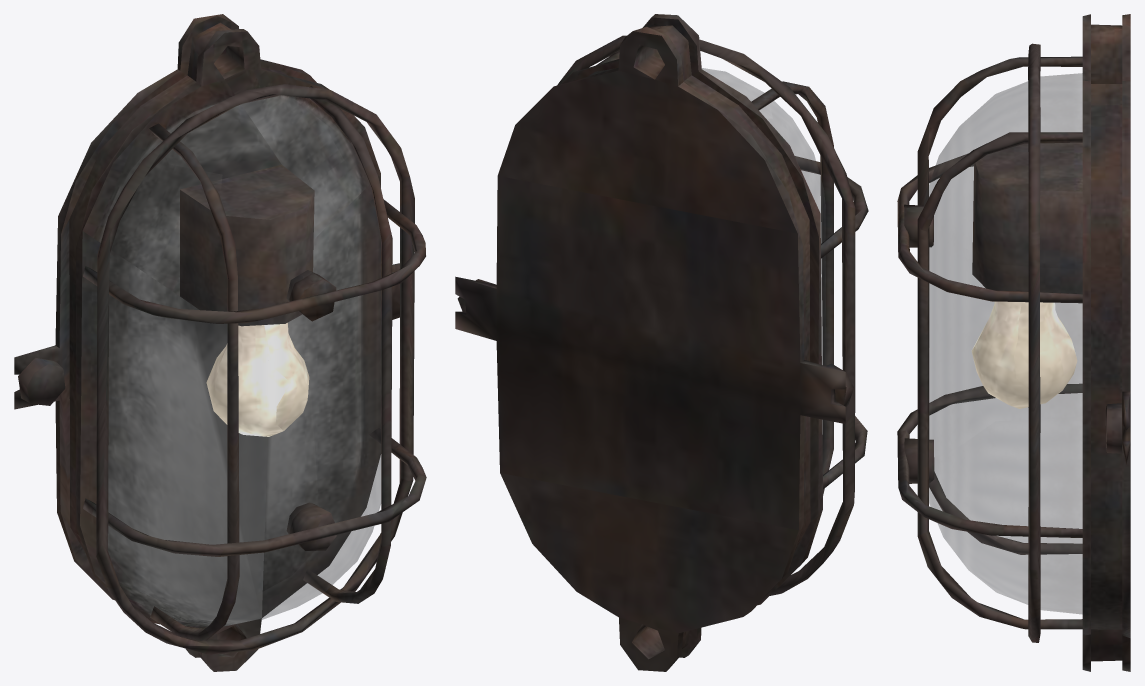
The model's file is wlamp.glb.
The picture shows the model from 3 angles, left to right: view 1: azimuth 30°, elevation 25°; view 2: azimuth 150°, elevation 25°; view 3: azimuth 270°, elevation 25°; orthographic projection.
Parts seen in each view (by area): view 1: industrial_wall_lamp; view 2: industrial_wall_lamp; view 3: industrial_wall_lamp.
Boxes of the visible parts, x1=… form: industrial_wall_lamp: x1=14, y1=14, x2=426, y2=671; industrial_wall_lamp: x1=455, y1=14, x2=868, y2=671; industrial_wall_lamp: x1=897, y1=14, x2=1130, y2=671.
Bounding box in the file's own units: 0.2735 × 0.4295 × 0.14.
2 materials, 2 textured.
